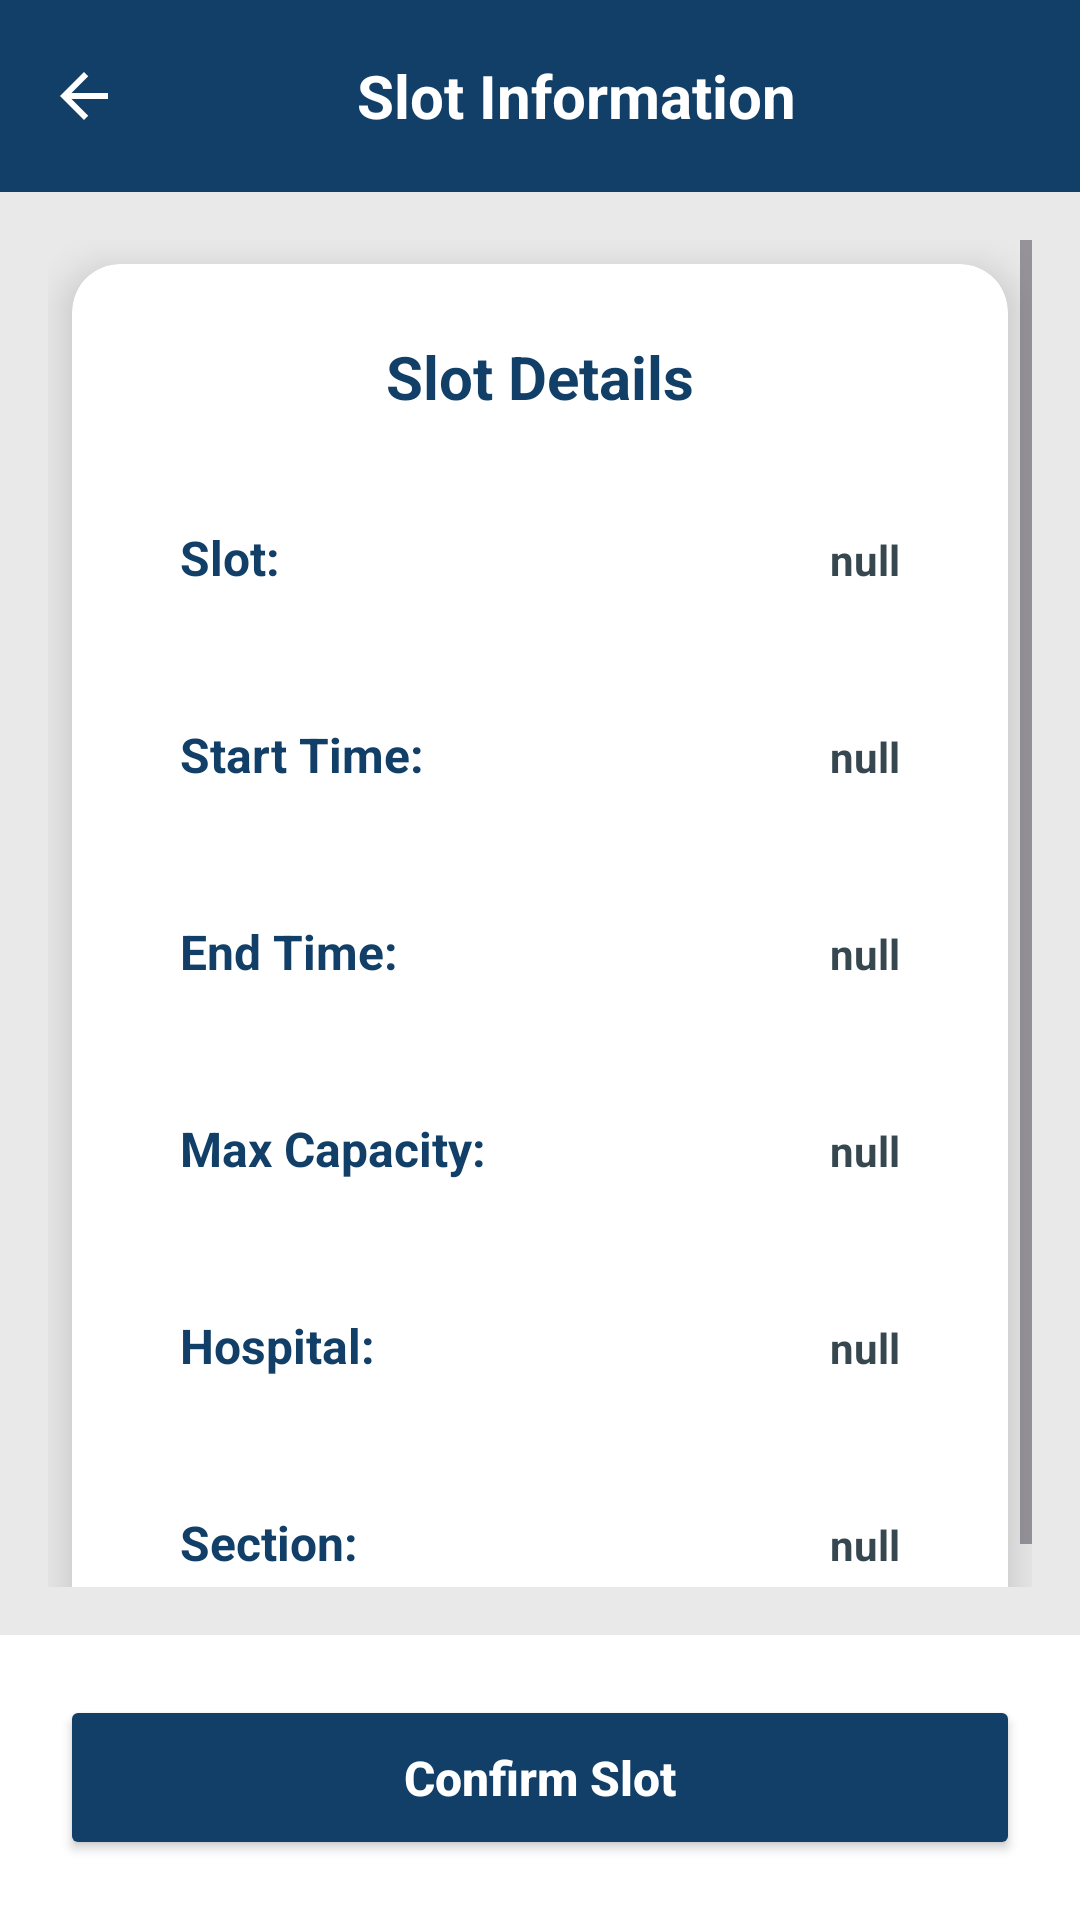

Locate icon controls on the screen. Image size 1080×1920, boxes as (x1, y1, x2, y2).
arrow back: (60, 72, 108, 120)
